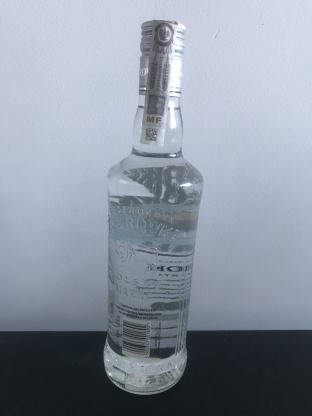nakretka: (136, 15, 188, 101)
